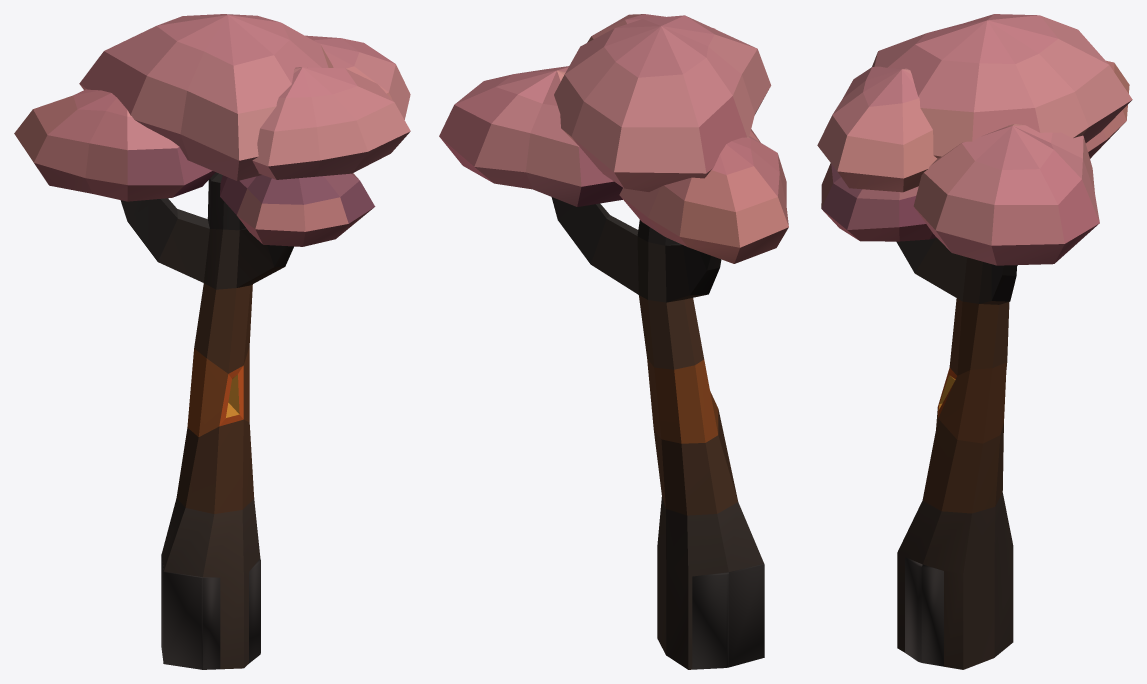
File: Emberheart_Tree.glb
3 renders of one model, left to right at view 1: azimuth 30°, elevation 25°; view 2: azimuth 150°, elevation 25°; view 3: azimuth 270°, elevation 25°, orthographic. The views are drawn at different scales.
Parts seen in each view (by area): view 1: Emberheart_Tree; view 2: Emberheart_Tree; view 3: Emberheart_Tree.
Boxes of the visible parts, x1,y1,x2,y2 form: Emberheart_Tree: [14, 14, 410, 669]; Emberheart_Tree: [439, 14, 788, 669]; Emberheart_Tree: [817, 14, 1132, 669].
Bounding box in the file's own units: 4.91 × 8.38 × 3.73.
